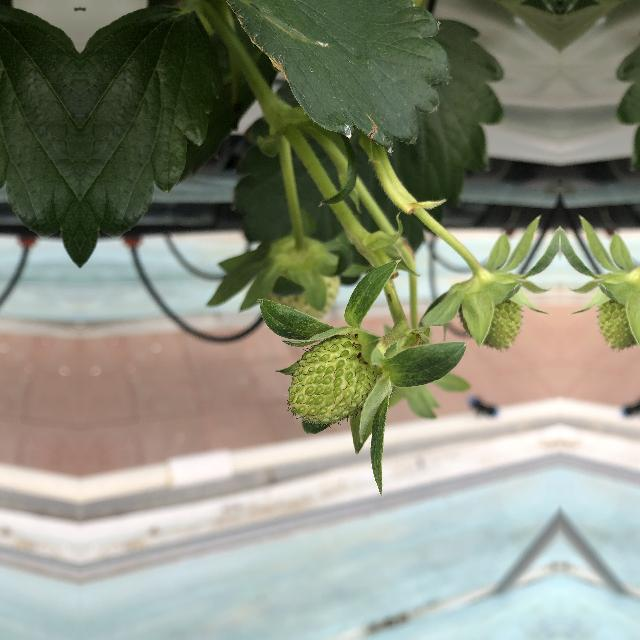Health_25: (282, 331, 394, 429), (455, 292, 529, 356), (591, 291, 640, 356)
